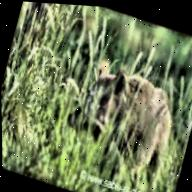boar: (48, 51, 184, 192)
